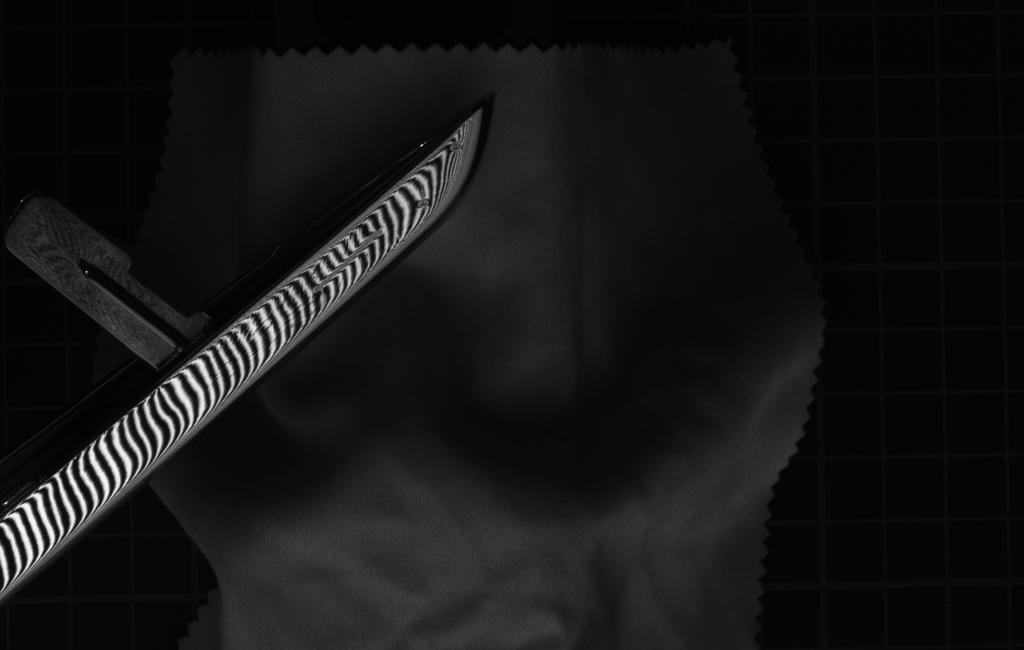Pierced: (444, 134, 467, 157), (413, 193, 434, 213)
Scratch: (307, 221, 390, 301)
